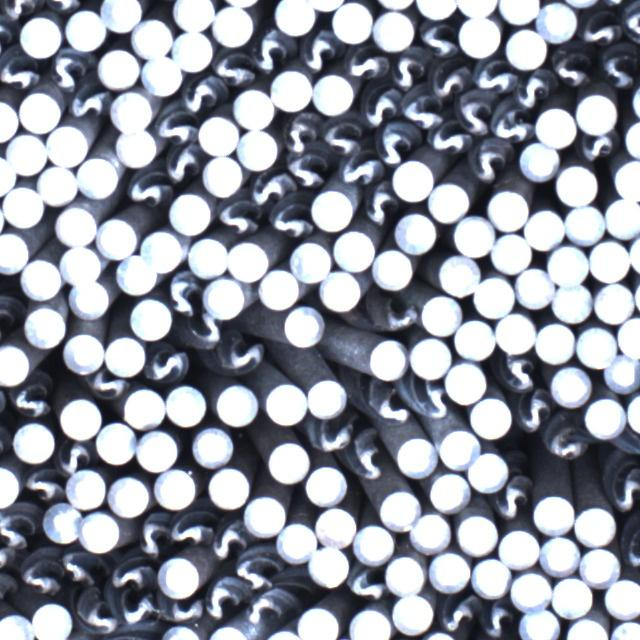tool: (155, 556, 203, 601), (22, 303, 66, 348), (58, 394, 102, 439), (153, 465, 199, 508), (134, 427, 178, 471), (288, 237, 332, 281), (62, 329, 106, 373), (310, 187, 353, 231), (11, 419, 55, 462), (467, 395, 511, 438), (206, 465, 250, 508), (61, 243, 104, 287), (164, 383, 207, 426), (107, 475, 150, 518), (391, 591, 434, 634), (472, 273, 515, 316), (121, 385, 164, 428), (76, 155, 119, 198), (214, 383, 258, 425), (550, 363, 592, 406), (264, 381, 306, 424), (408, 335, 450, 378), (128, 296, 171, 338), (103, 335, 146, 377), (271, 67, 313, 110), (445, 360, 487, 403), (333, 227, 375, 270), (453, 316, 495, 359), (19, 256, 61, 299), (244, 494, 287, 536), (213, 3, 255, 46), (318, 270, 362, 311), (302, 463, 346, 504), (6, 128, 46, 173), (41, 501, 81, 546), (536, 0, 578, 42), (190, 424, 232, 466), (427, 470, 469, 512), (312, 71, 354, 113), (458, 14, 500, 56), (419, 292, 461, 334), (550, 575, 592, 617), (54, 202, 96, 244), (185, 235, 227, 277), (19, 14, 61, 56), (391, 159, 433, 201), (556, 163, 598, 205), (546, 241, 588, 283), (533, 321, 574, 364), (203, 274, 244, 317), (79, 509, 120, 552), (1, 184, 42, 227), (593, 280, 634, 323), (409, 511, 450, 554), (469, 557, 510, 600), (510, 566, 551, 609), (551, 281, 592, 324), (95, 218, 138, 259), (589, 237, 630, 280), (169, 192, 212, 233), (494, 311, 535, 354), (95, 420, 135, 464), (426, 181, 470, 221), (428, 549, 469, 591), (575, 325, 616, 367), (65, 466, 106, 508), (583, 396, 624, 438), (504, 28, 546, 69), (330, 0, 371, 42), (232, 86, 273, 128), (266, 441, 308, 482), (258, 268, 300, 309), (384, 552, 426, 593), (64, 10, 105, 52), (273, 521, 315, 562), (282, 305, 323, 347), (486, 187, 528, 228), (533, 492, 575, 533), (114, 255, 157, 295), (202, 154, 242, 197), (601, 575, 640, 619), (498, 527, 539, 568), (315, 504, 356, 545), (226, 239, 267, 280), (19, 90, 60, 131), (576, 91, 617, 132), (114, 126, 155, 167), (307, 545, 347, 587), (236, 128, 278, 168), (455, 513, 495, 555), (466, 450, 508, 490), (524, 208, 564, 250), (144, 228, 184, 270), (491, 231, 531, 273), (578, 545, 620, 585), (574, 504, 616, 544), (437, 253, 477, 294), (171, 32, 212, 72), (373, 10, 414, 50), (533, 105, 573, 146), (564, 203, 604, 244), (452, 216, 493, 256), (31, 599, 71, 640), (396, 213, 437, 253), (197, 113, 237, 154), (46, 125, 87, 165), (437, 427, 475, 470), (130, 17, 170, 57), (367, 339, 407, 379), (373, 248, 413, 288), (354, 522, 394, 562), (68, 276, 108, 316), (110, 88, 150, 128), (97, 49, 138, 88), (519, 140, 558, 181), (394, 437, 435, 476), (379, 489, 420, 528), (539, 534, 578, 574), (601, 354, 640, 394), (36, 164, 76, 203), (307, 377, 345, 418), (296, 604, 339, 640), (515, 267, 553, 307), (603, 197, 640, 238), (348, 607, 391, 640), (518, 606, 559, 640), (144, 57, 181, 94), (274, 0, 314, 34), (0, 228, 30, 273), (172, 0, 213, 30), (0, 344, 29, 385), (103, 0, 142, 30), (616, 315, 640, 358), (565, 616, 608, 640), (614, 158, 640, 197), (499, 0, 540, 22), (0, 612, 32, 640), (0, 464, 19, 507), (416, 0, 456, 18), (0, 99, 18, 139), (456, 0, 498, 16)
tool_b: (20, 546, 64, 599), (46, 45, 94, 93), (212, 333, 268, 373), (60, 82, 113, 124), (70, 586, 116, 634), (362, 381, 409, 427), (158, 143, 204, 189), (6, 375, 53, 420), (123, 165, 172, 208), (366, 294, 420, 333), (269, 194, 313, 241), (548, 42, 591, 90), (177, 66, 219, 114), (348, 432, 390, 480), (0, 47, 43, 93), (491, 105, 538, 147), (155, 97, 195, 146), (143, 343, 189, 385), (547, 413, 586, 462), (375, 123, 418, 167), (597, 42, 640, 86), (59, 544, 105, 585), (309, 413, 355, 454), (470, 137, 509, 185), (17, 465, 66, 503), (403, 87, 444, 132), (0, 503, 40, 549), (426, 118, 473, 157), (358, 87, 401, 129), (455, 92, 495, 137), (251, 30, 296, 70), (319, 117, 365, 156), (134, 509, 169, 560), (167, 269, 202, 319), (244, 171, 291, 208), (169, 505, 211, 546), (174, 311, 218, 350), (437, 595, 481, 634), (208, 574, 246, 619), (609, 461, 640, 516), (234, 547, 275, 588), (577, 10, 619, 50), (110, 555, 154, 593), (333, 150, 382, 184), (357, 184, 396, 226), (514, 392, 550, 437), (416, 17, 456, 57), (345, 46, 390, 81), (411, 381, 451, 420), (54, 438, 92, 479), (289, 151, 327, 192), (473, 57, 513, 95), (302, 27, 338, 69), (117, 590, 160, 625), (159, 593, 207, 624), (280, 115, 317, 155), (214, 50, 254, 87), (498, 479, 534, 520), (244, 589, 288, 622), (217, 197, 254, 236), (481, 599, 516, 640), (89, 367, 132, 400), (350, 565, 388, 602), (432, 61, 469, 99), (388, 50, 424, 89), (212, 519, 245, 561), (516, 70, 549, 110), (580, 130, 622, 161), (503, 356, 538, 393), (0, 284, 19, 342), (0, 0, 43, 22), (0, 15, 18, 56), (622, 429, 640, 457)
